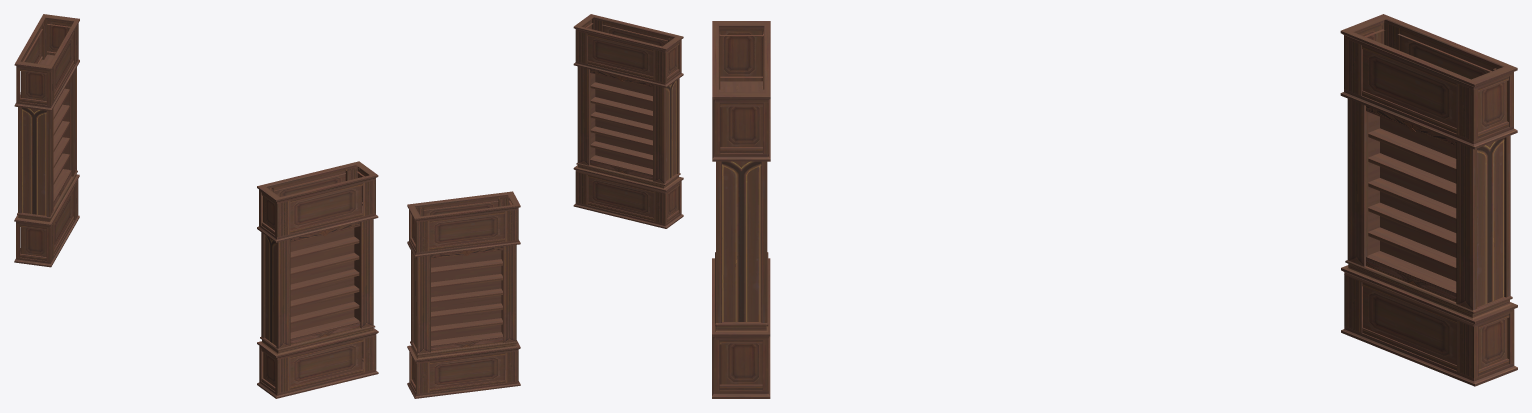
The model's file is LibreroAncho.obj.
3 views of the same model, side by side, from view 1: azimuth 30°, elevation 25°; view 2: azimuth 150°, elevation 25°; view 3: azimuth 270°, elevation 25° (orthographic). The views are drawn at different scales.
Visible parts, largest first — view 1: pasted__Librero1_polySurface176 group2, group2 pasted__Librero1_polySurface172; view 2: group2 pasted__Librero1_polySurface172, pasted__Librero1_polySurface176 group2; view 3: group2 pasted__Librero1_polySurface172, pasted__Librero1_polySurface176 group2.
Boxes of the visible parts, left/top/right/bottom form: pasted__Librero1_polySurface176 group2: left=257, top=161, right=378, bottom=398; group2 pasted__Librero1_polySurface172: left=14, top=14, right=79, bottom=267; group2 pasted__Librero1_polySurface172: left=407, top=191, right=520, bottom=398; pasted__Librero1_polySurface176 group2: left=573, top=14, right=683, bottom=228; group2 pasted__Librero1_polySurface172: left=1340, top=14, right=1517, bottom=386; pasted__Librero1_polySurface176 group2: left=712, top=21, right=770, bottom=398.
Size of the model in its own units: 4.92 by 7.03 by 15.78.
1 material, 1 textured.
